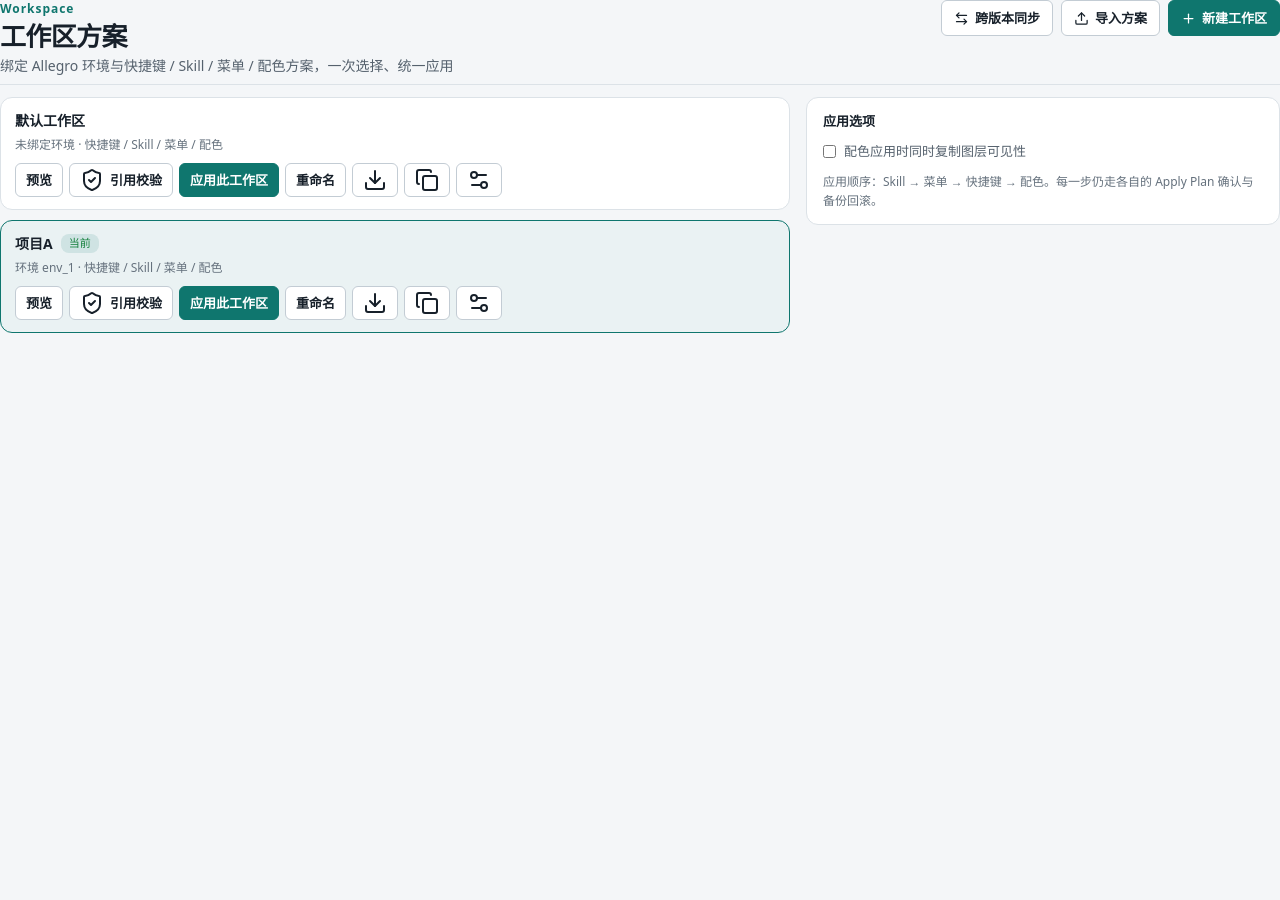
Test case: UnifiedWorkspacePage › 预览展示环境与四类方案摘要
Click the button "预览" below "未绑定环境" at (39, 180), box x1=15 y1=163 x2=63 y2=197
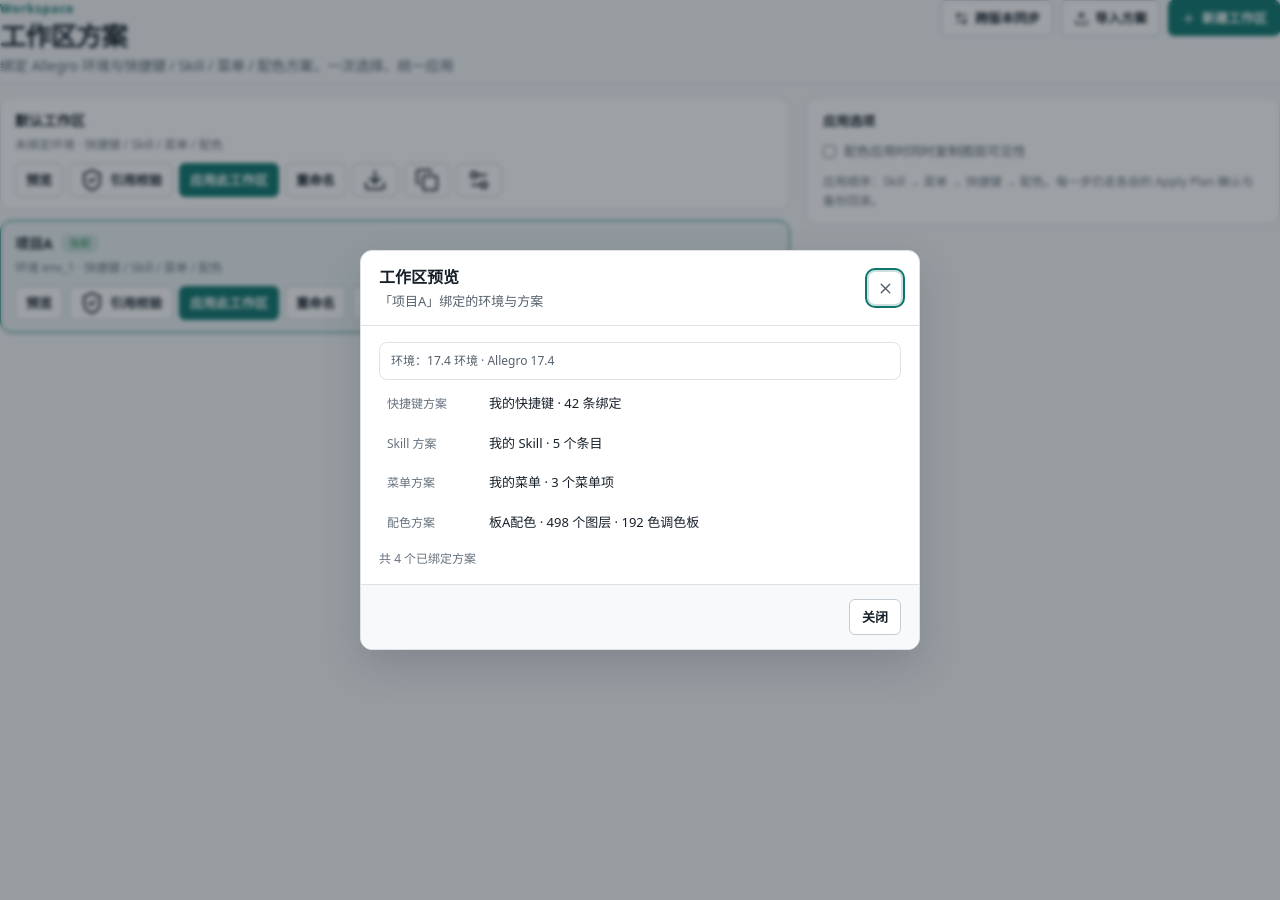
Expected: the text "环境：17.4 环境 · Allegro 17.4" is shown, x1=379 y1=342 x2=901 y2=380
Expected: the text "我的快捷键 · 42 条绑定" is shown, x1=489 y1=394 x2=622 y2=414
Expected: the text "板A配色 · 498 个图层 · 192 色调色板" is shown, x1=489 y1=513 x2=699 y2=532
